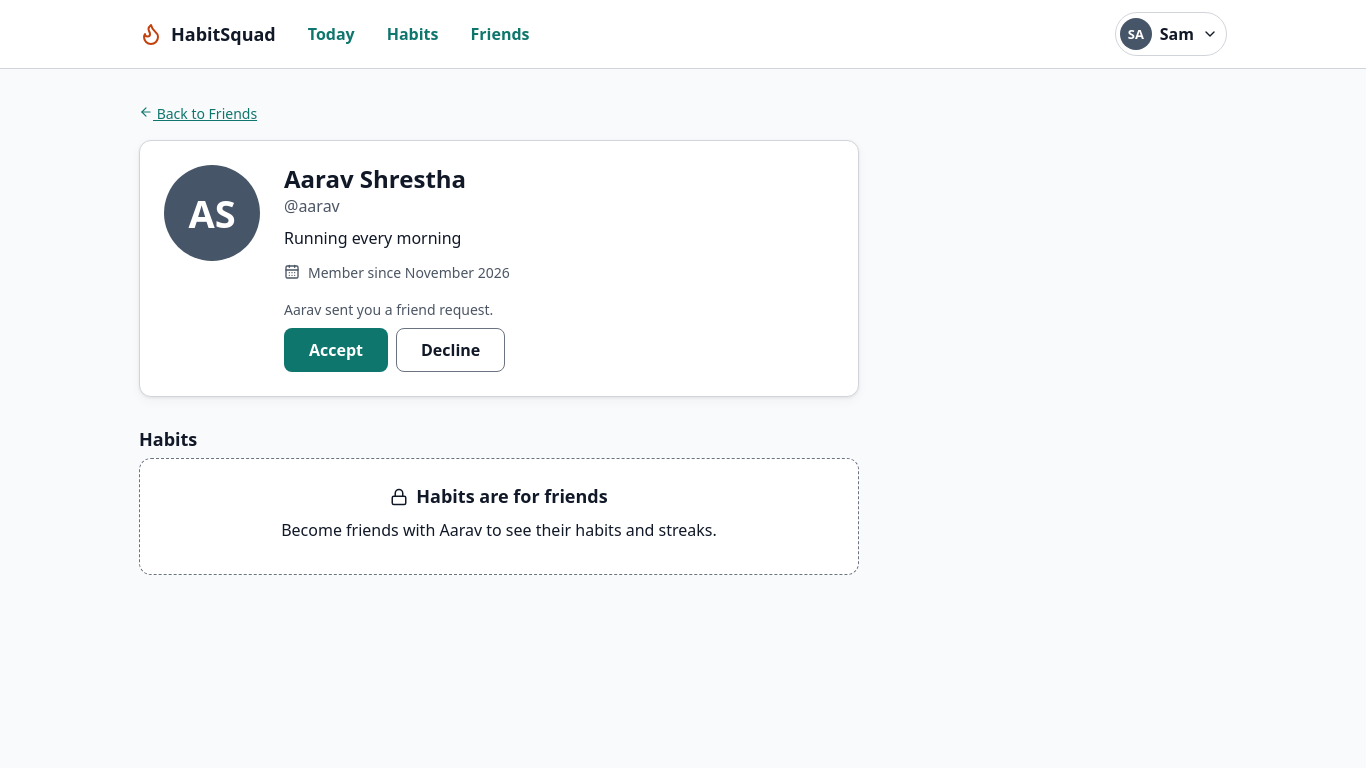
Scenario: PersonProfilePage › "Decline" says no quietly
Expected: the heading "Aarav Shrestha" is shown, [284,162,466,195]
What coordinates should you click on to do the following:
click the button "Decline"
I would click on:
 (451, 350)
Its box is [396,328,505,372].
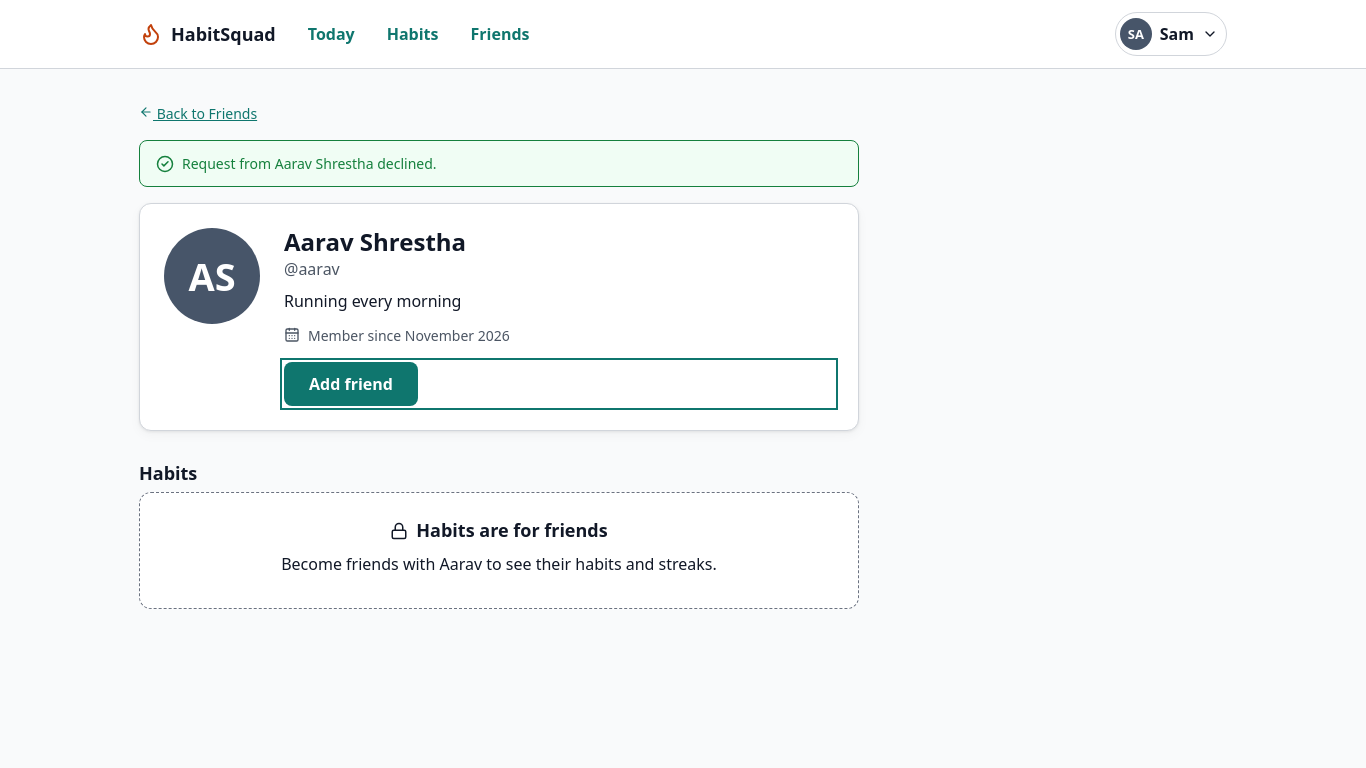
Expected: the text "Request from Aarav Shrestha declined." is shown, [182,153,437,174]
Expected: the button "Add friend" is shown, [284,362,418,406]
